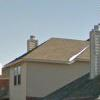Chimney: (24, 29, 44, 55)
